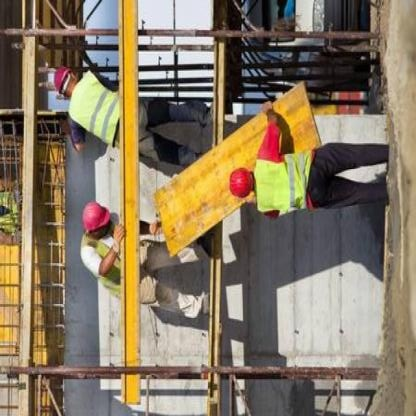red: (79, 192, 114, 238), (227, 154, 254, 202), (50, 52, 76, 98)
vest: (65, 68, 124, 154), (252, 139, 314, 220)
